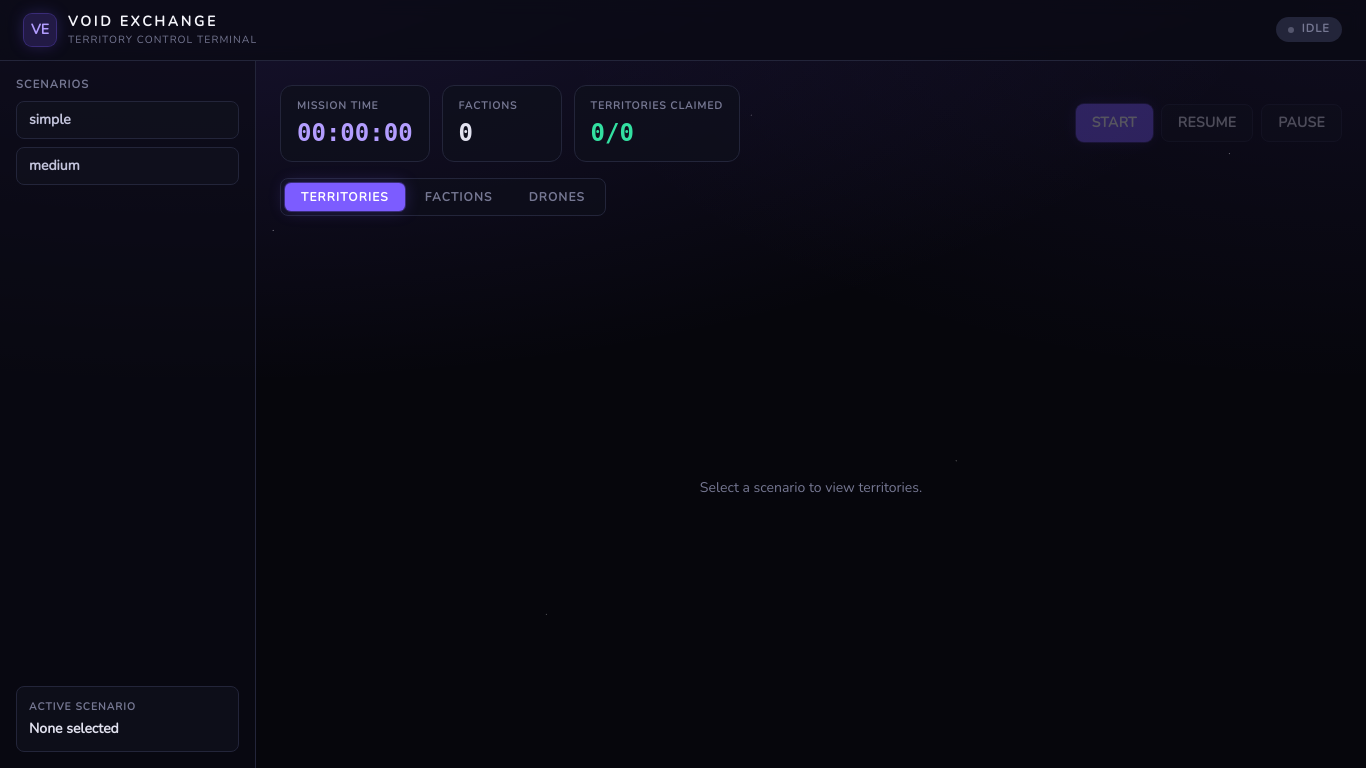
Test: App › loading a scenario enables Start and marks it active
This screenshot has width=1366, height=768.
Click the button "simple" at (128, 120), box [16,101,239,139]
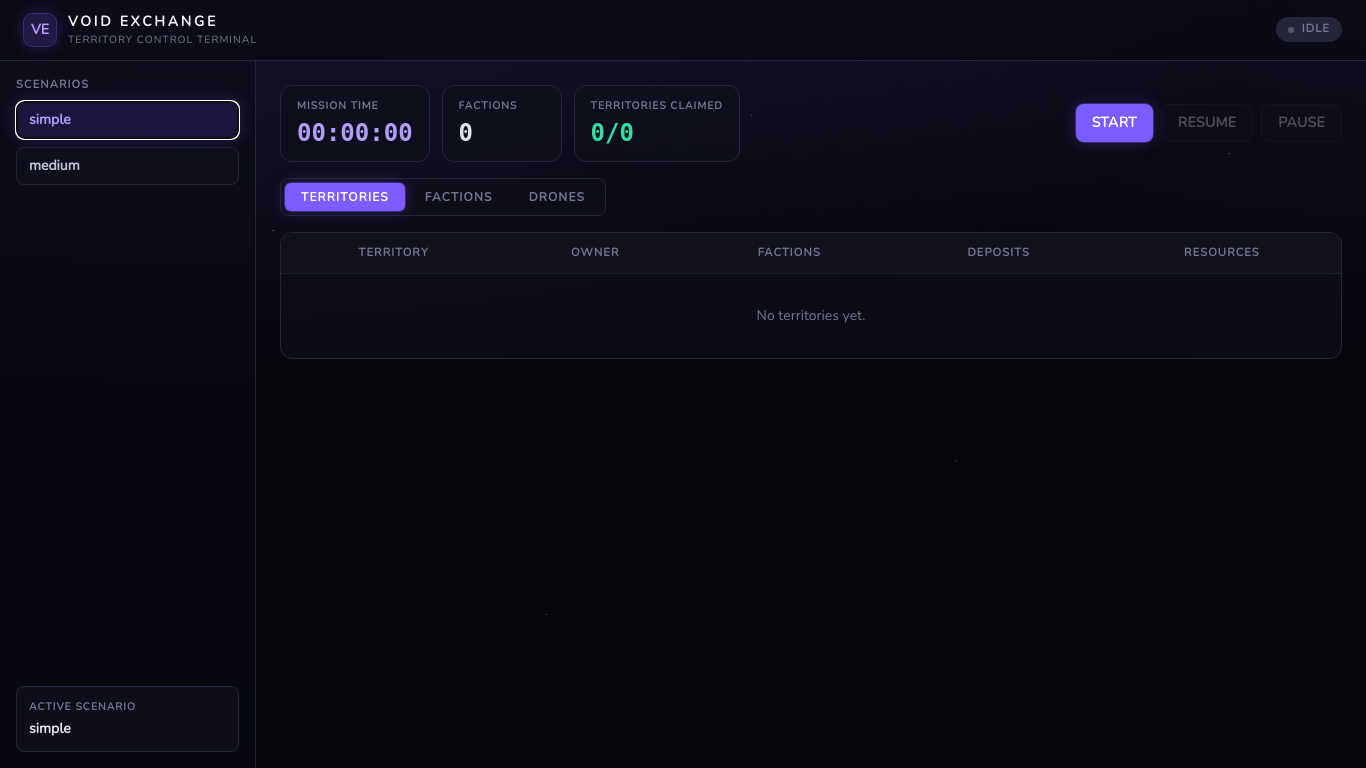
Expected: the text "idle" is shown, [1276,17,1342,42]
Now the button "Start" is enabled, box [1076,104,1153,142]
